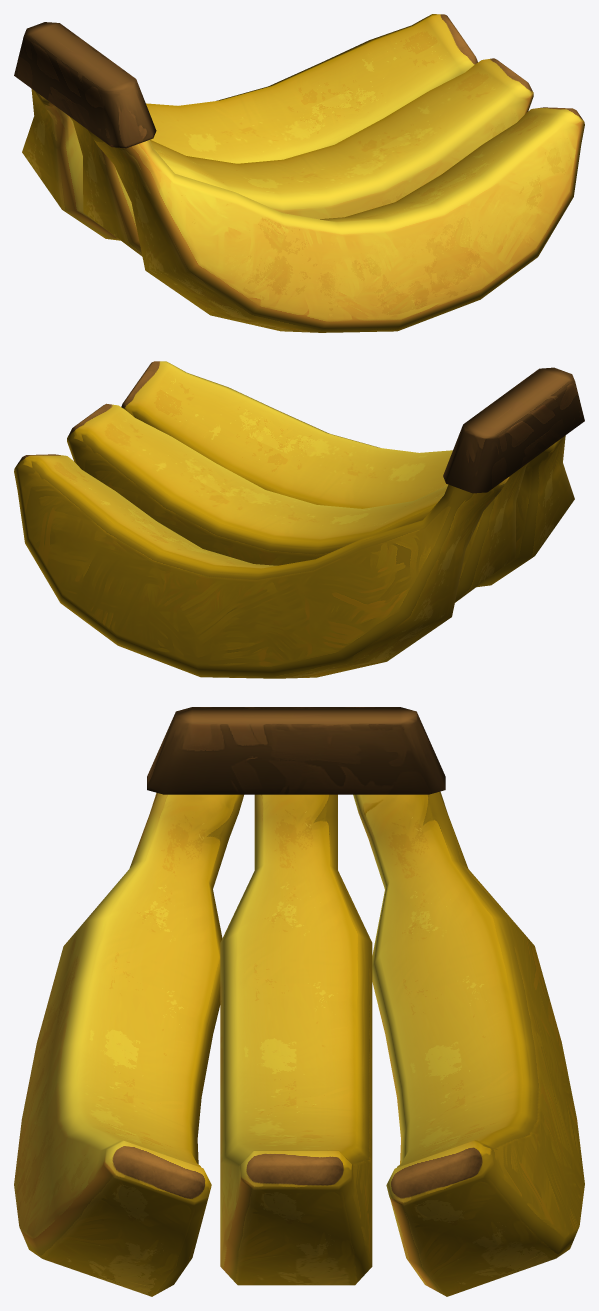
Rendered from retro_banana.glb.
3 views of the same model, one above another, from view 1: azimuth 30°, elevation 25°; view 2: azimuth 150°, elevation 25°; view 3: azimuth 270°, elevation 25° (orthographic). The views are drawn at different scales.
Parts seen in each view (by area): view 1: Banana_low; view 2: Banana_low; view 3: Banana_low.
Boxes of the visible parts, bbox=[...] form: Banana_low: bbox=[14, 14, 584, 332]; Banana_low: bbox=[14, 361, 584, 678]; Banana_low: bbox=[14, 707, 584, 1296].
Size of the model in its own units: 0.1012 by 0.0601 by 0.0804.
1 material, 1 textured.
